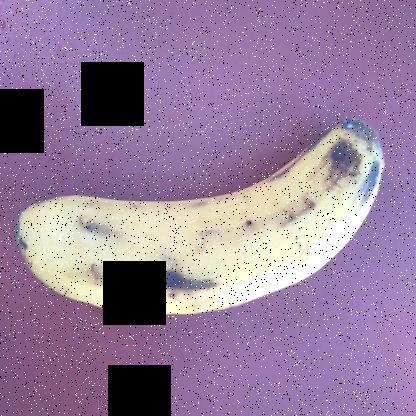ripe: (5, 102, 393, 331)
